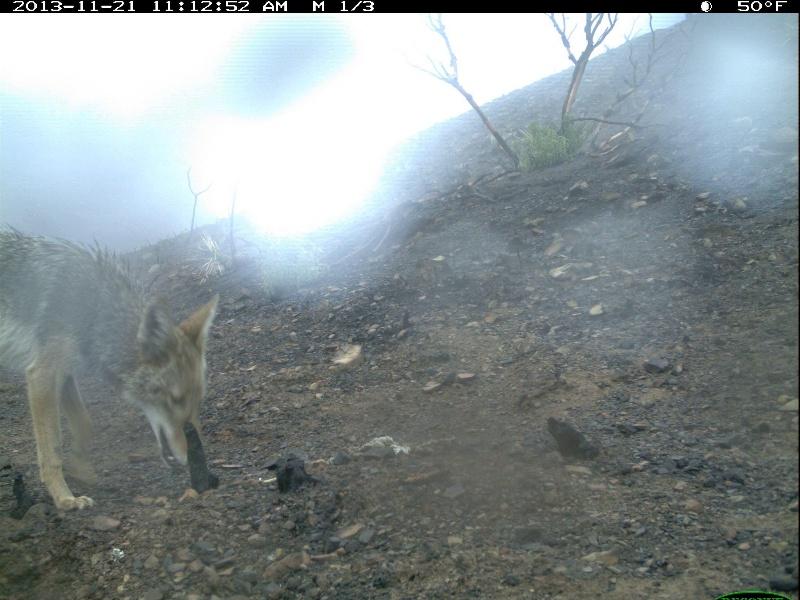coyote: (1, 229, 225, 519)
